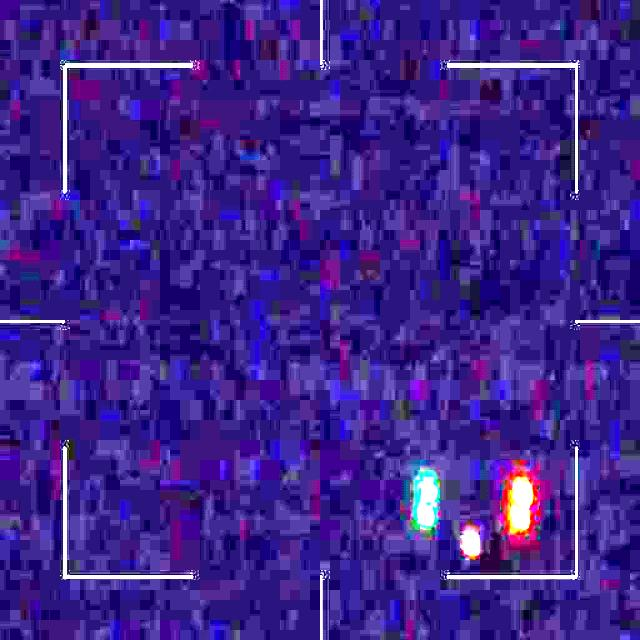bird: (415, 474, 532, 560)
